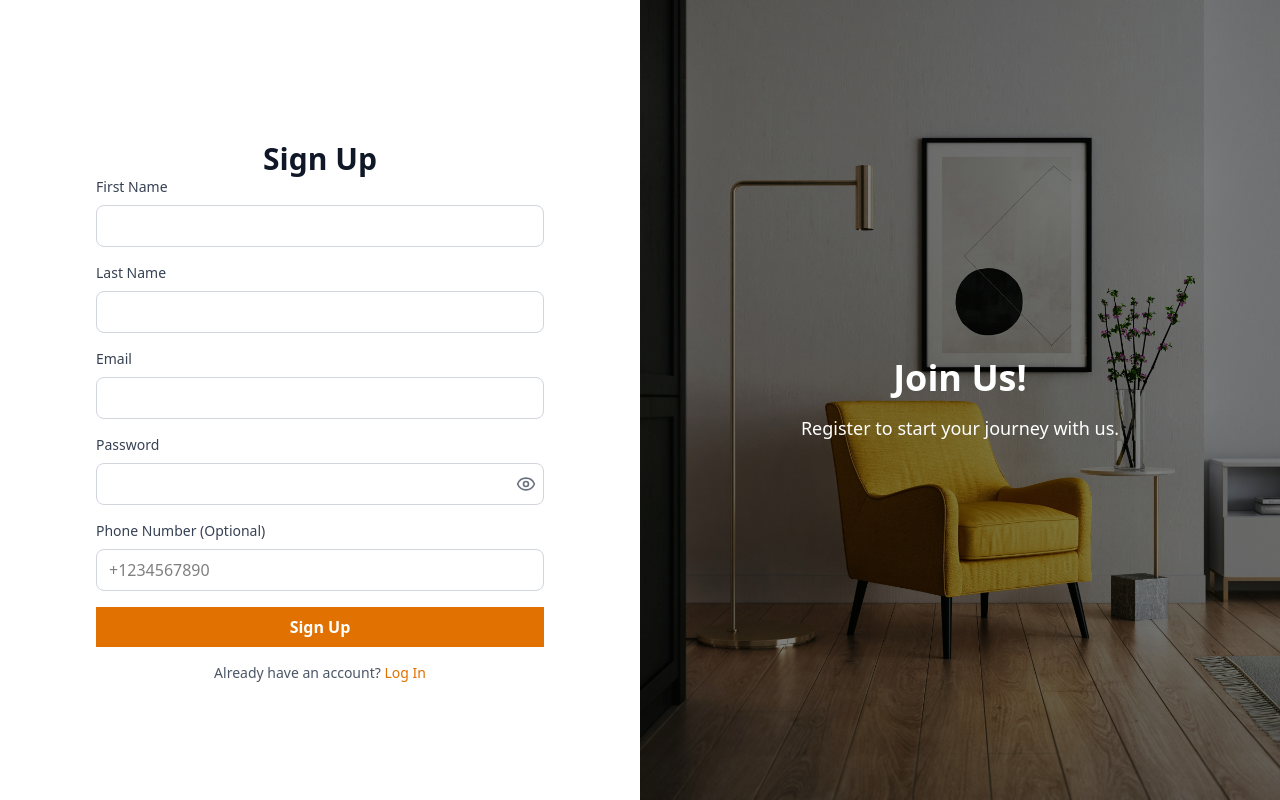
Signup › handles API error response
The image size is (1280, 800).
Fill out form with required fields
Type "John" into the field labelled "First Name" at {"x": 320, "y": 226}, box [96, 205, 544, 247]
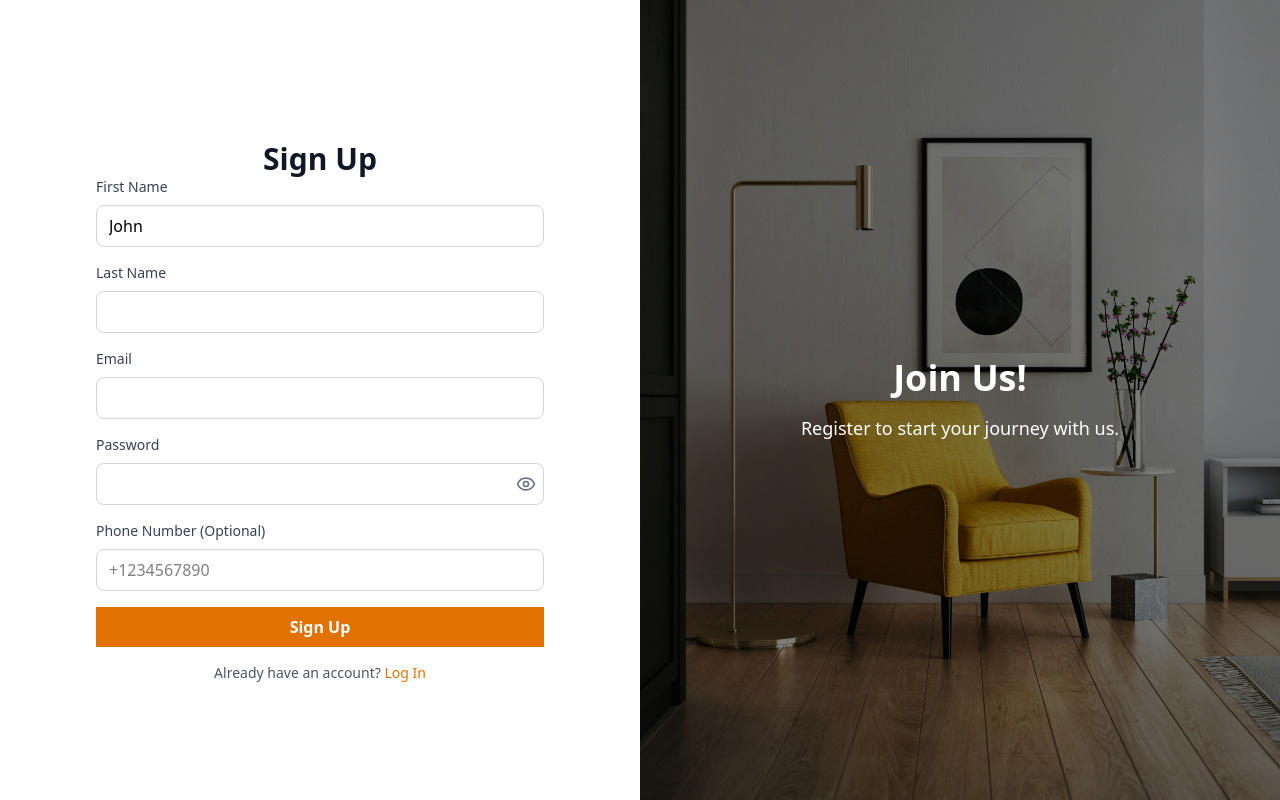
Type "Doe" into the field labelled "Last Name" at {"x": 320, "y": 312}, box [96, 291, 544, 333]
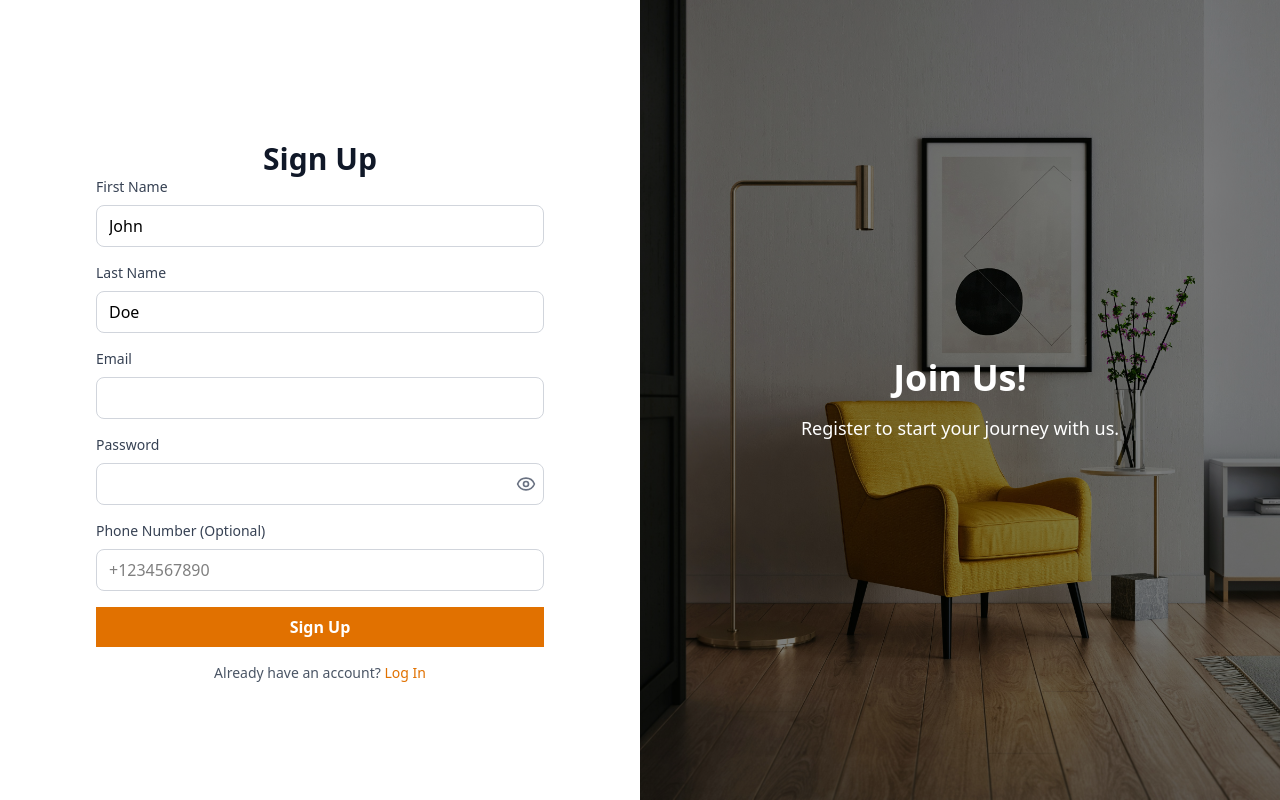
Type "john@example.com" into the field labelled "Email" at {"x": 320, "y": 398}, box [96, 377, 544, 419]
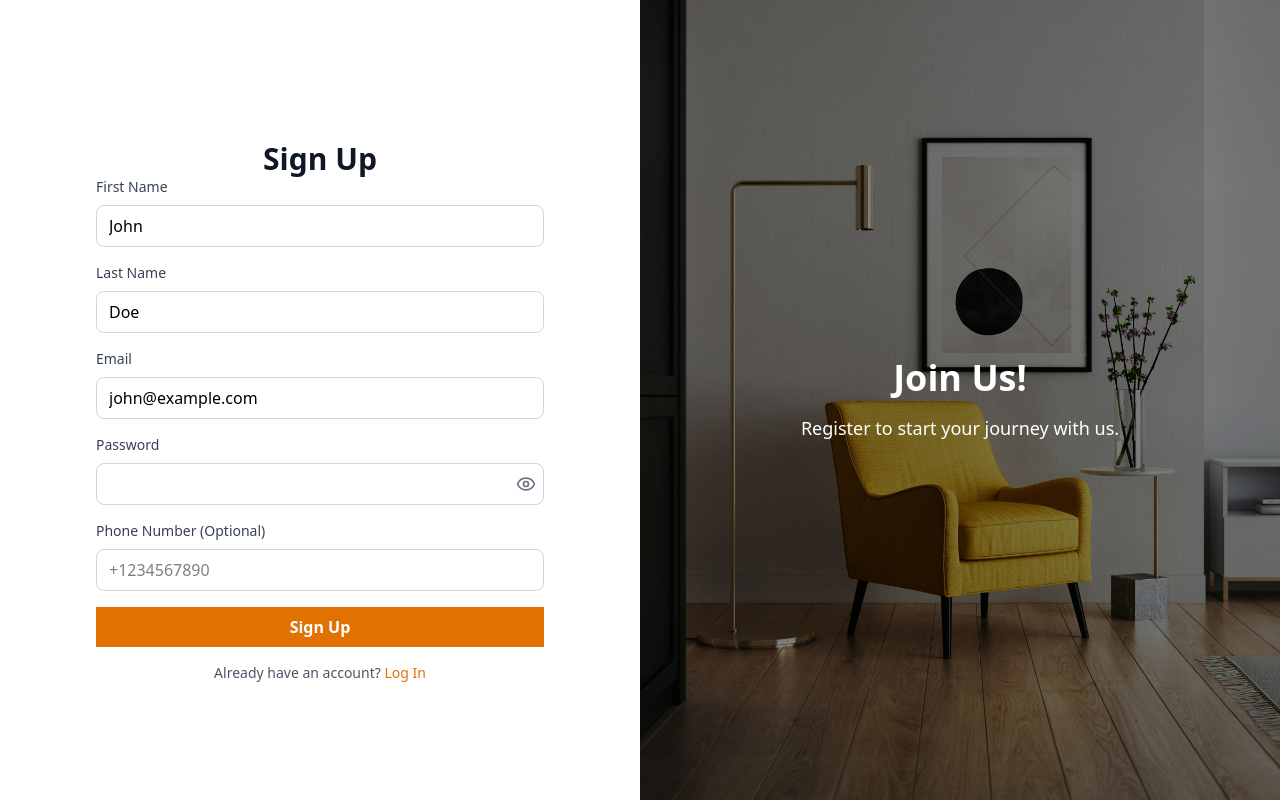
Type "password123" into the password field labelled "Password" at {"x": 320, "y": 484}, box [96, 463, 544, 505]
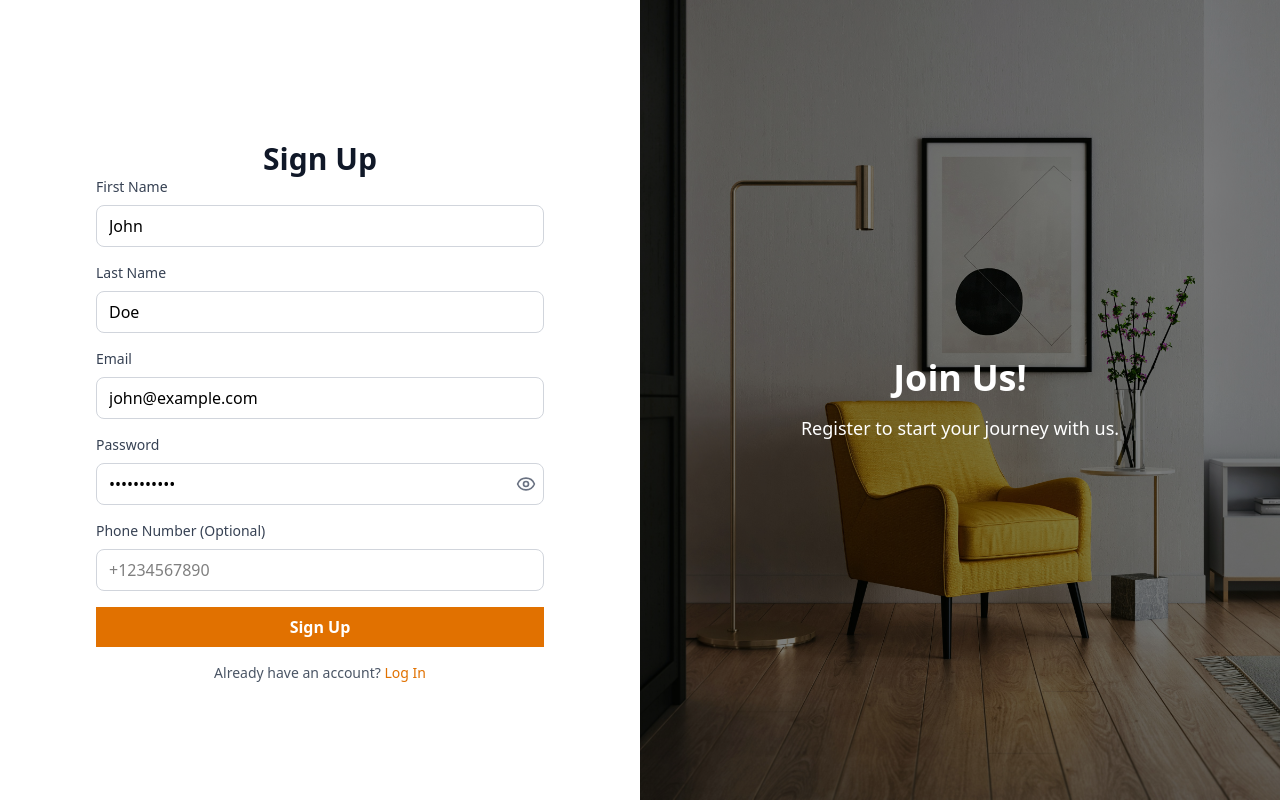
Submit form
Click the button "Sign Up" at {"x": 320, "y": 627}, box [96, 607, 544, 647]
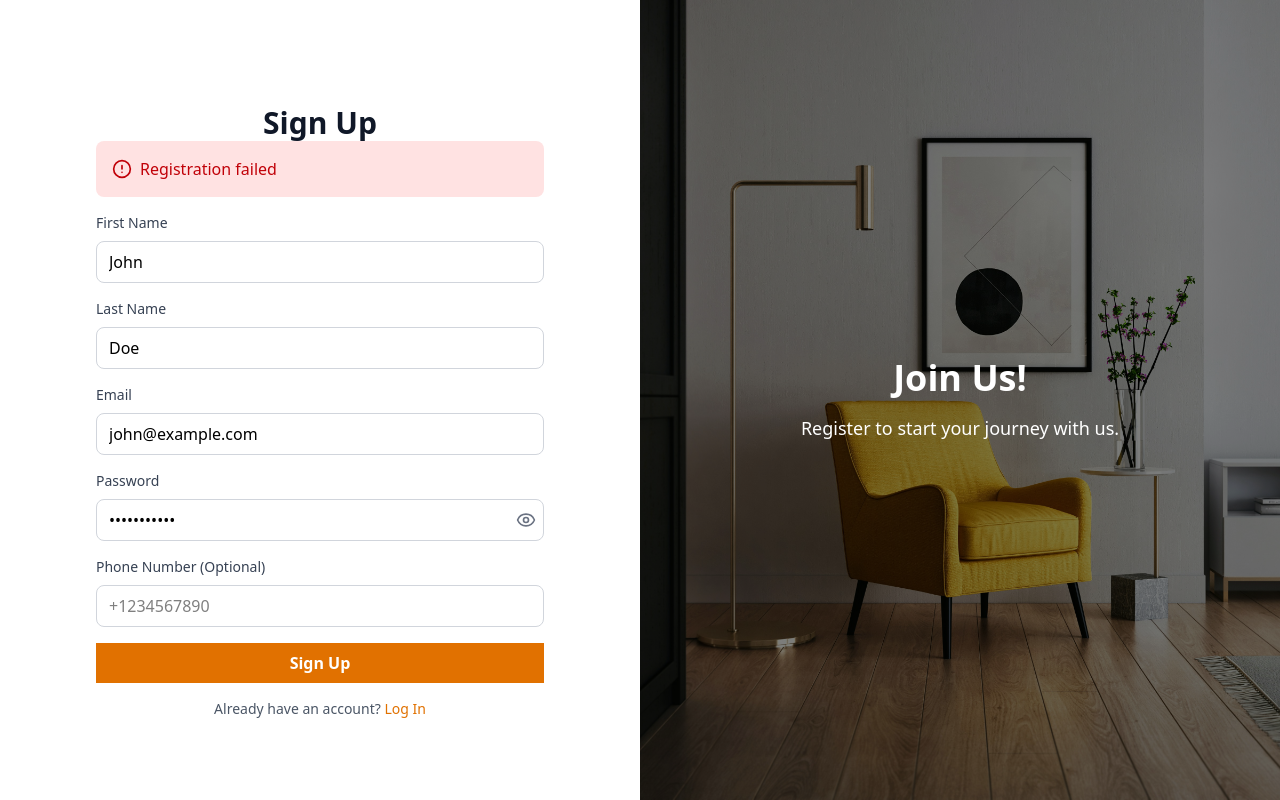
Now the text "Registration failed" is shown, box [140, 158, 277, 180]
